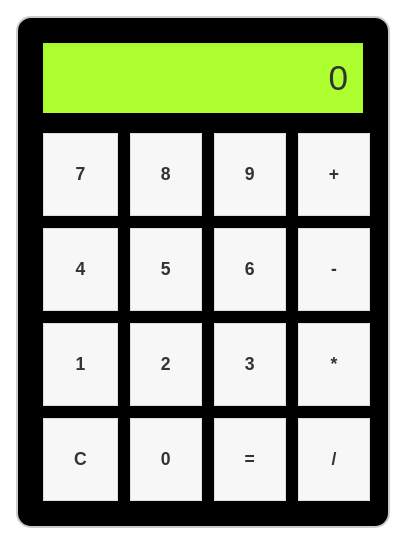
it: Calculator Add Functionality › should add two positive numbers
The width and height of the screenshot is (407, 545).
Click the button "2" at (166, 364), box [130, 323, 202, 406]
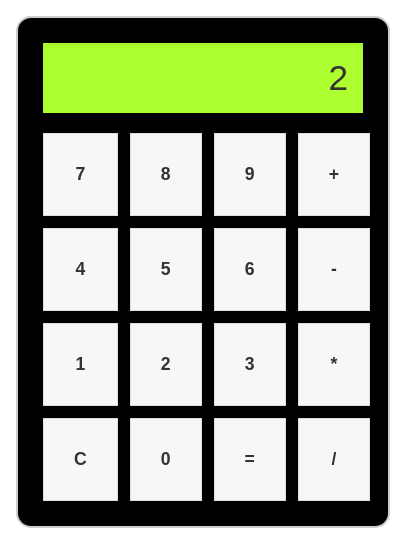
Click the button "+" at (334, 174), box [298, 133, 370, 216]
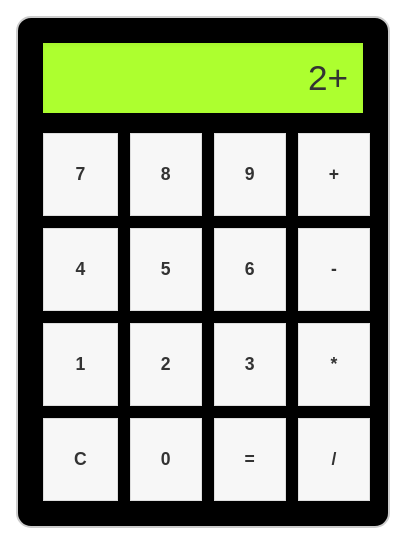
Click the button "3" at (250, 364), box [214, 323, 286, 406]
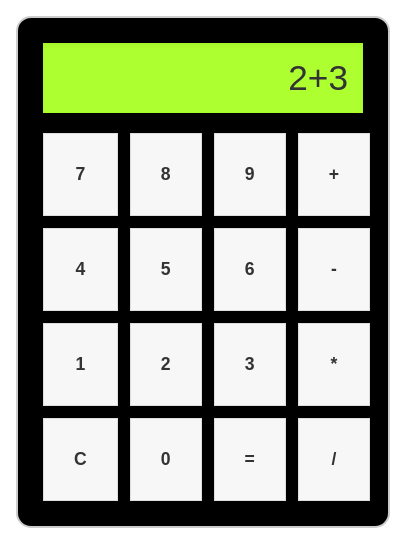
Click the button "=" at (250, 460), box [214, 418, 286, 501]
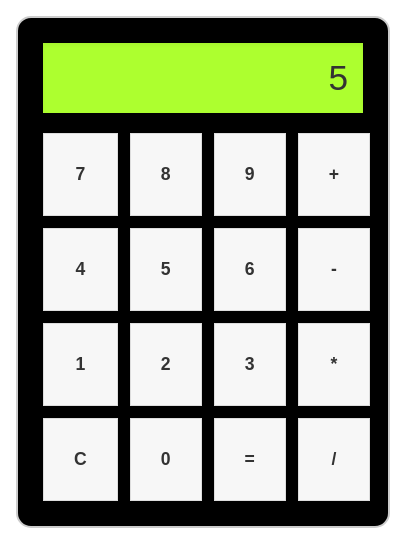
Check: the text with test id "display" reads "5", box [328, 58, 348, 97]
